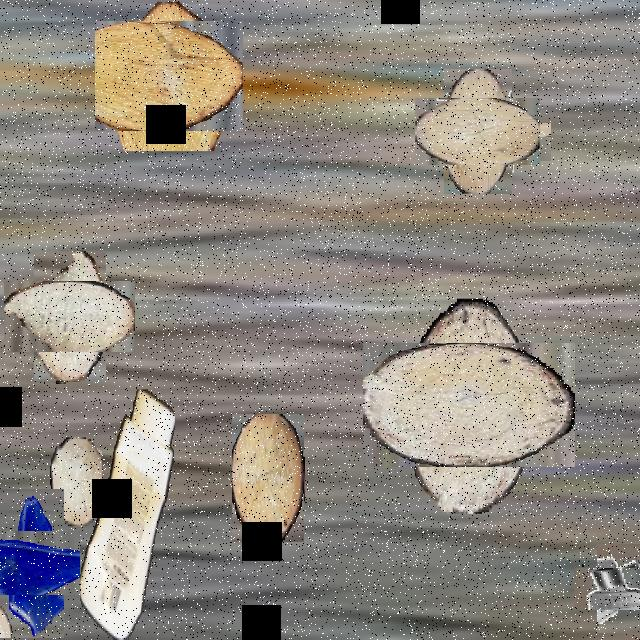glass: (0, 510, 85, 616)
metal: (585, 555, 640, 621), (491, 116, 544, 168)
plastic: (80, 390, 174, 638)
wood: (385, 321, 553, 490), (104, 12, 234, 141), (19, 266, 121, 367), (430, 83, 526, 180), (232, 414, 304, 542), (50, 438, 102, 526)
